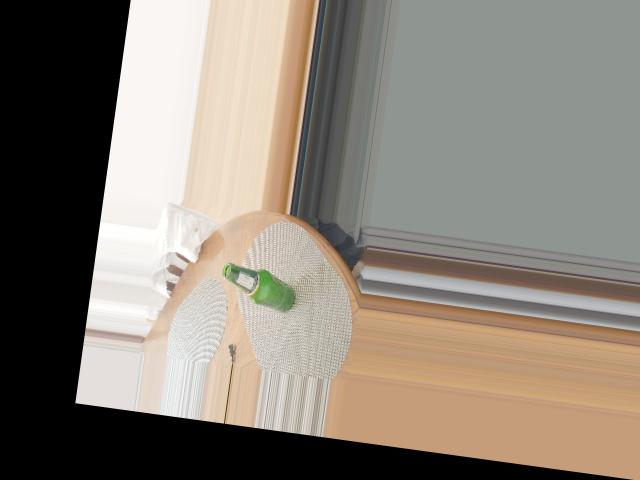beer: (219, 264, 298, 313)
